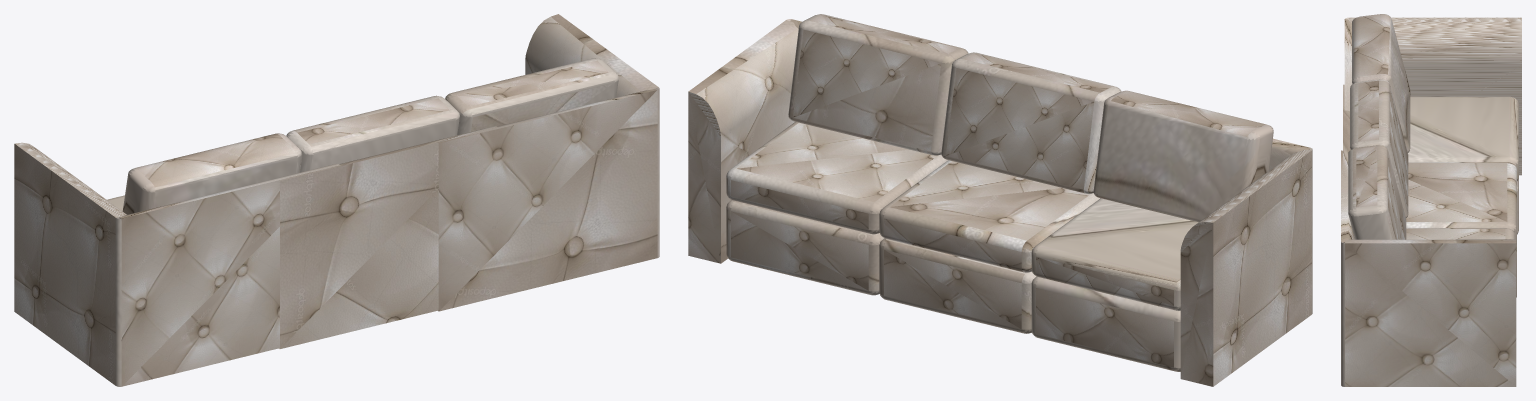
Rendered from sofa1again4.glb.
3 renders of one model, left to right at view 1: azimuth 30°, elevation 25°; view 2: azimuth 150°, elevation 25°; view 3: azimuth 270°, elevation 25°, orthographic. The views are drawn at different scales.
Visible parts, largest first — view 1: sofa1; view 2: sofa1; view 3: sofa1.
Part boxes in pixels (x1,y1,x2,y2): sofa1: (14, 14, 659, 386); sofa1: (688, 14, 1312, 386); sofa1: (1341, 14, 1521, 386).
Size of the model in its own units: 2.45 by 0.8306 by 0.8315.
Materials: 1 (1 with a texture image).
